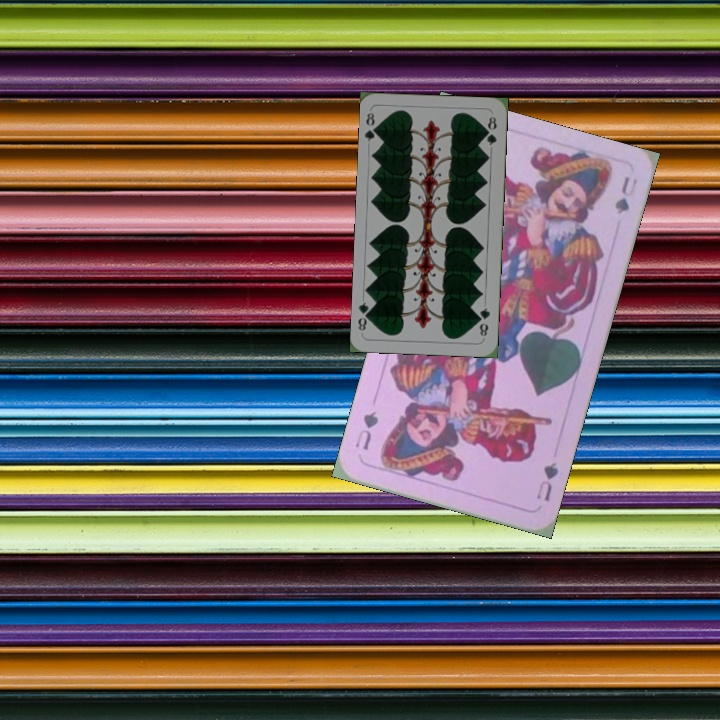G8: (361, 109, 382, 144), (475, 304, 493, 339)
GU: (532, 456, 561, 505)
